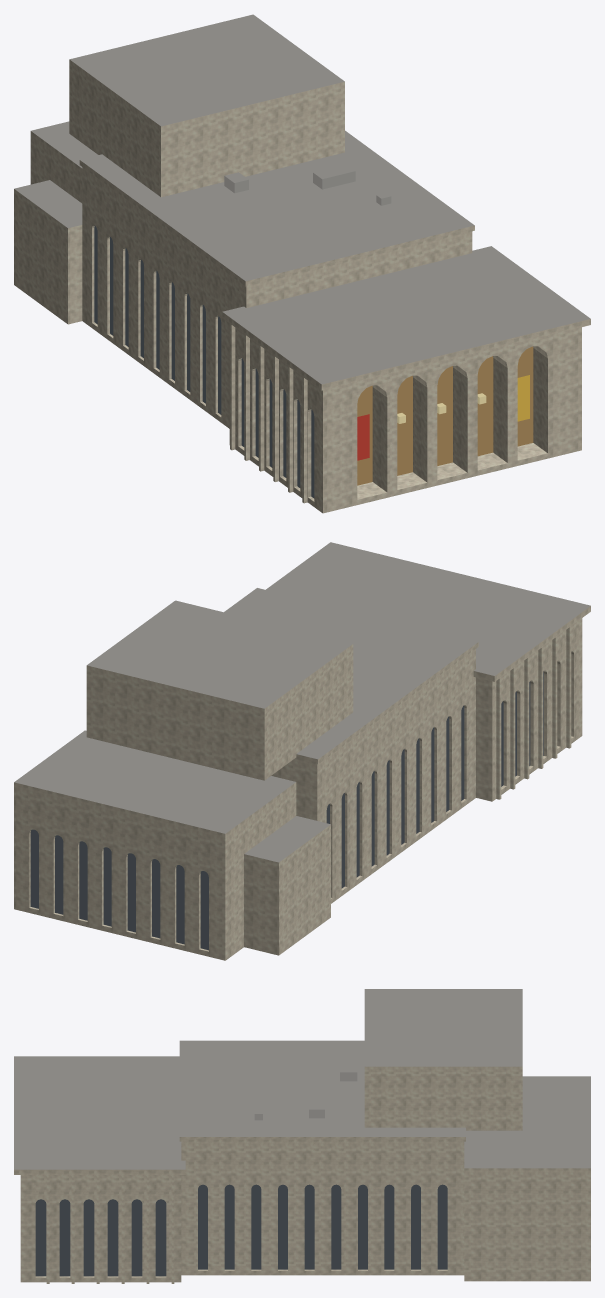
Rendered from lincoln_center_met_opera.glb.
3 views of the same model, one above another, from view 1: azimuth 30°, elevation 25°; view 2: azimuth 150°, elevation 25°; view 3: azimuth 270°, elevation 25° (orthographic). The views are drawn at different scales.
Visible parts, largest first — view 1: lincoln_center_met_opera; view 2: lincoln_center_met_opera; view 3: lincoln_center_met_opera.
Part boxes in pixels (x1,y1,x2,y2): lincoln_center_met_opera: (14,14,590,513); lincoln_center_met_opera: (14,542,590,960); lincoln_center_met_opera: (14,989,590,1283).
Bounding box in the file's own units: 64.4 × 53 × 139.
2 materials, 2 textured.
